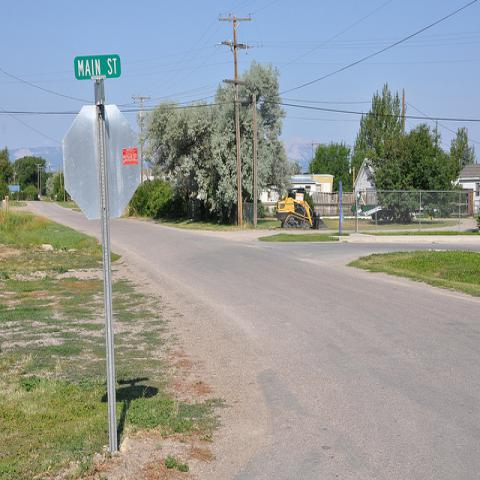truck: (274, 186, 320, 228)
